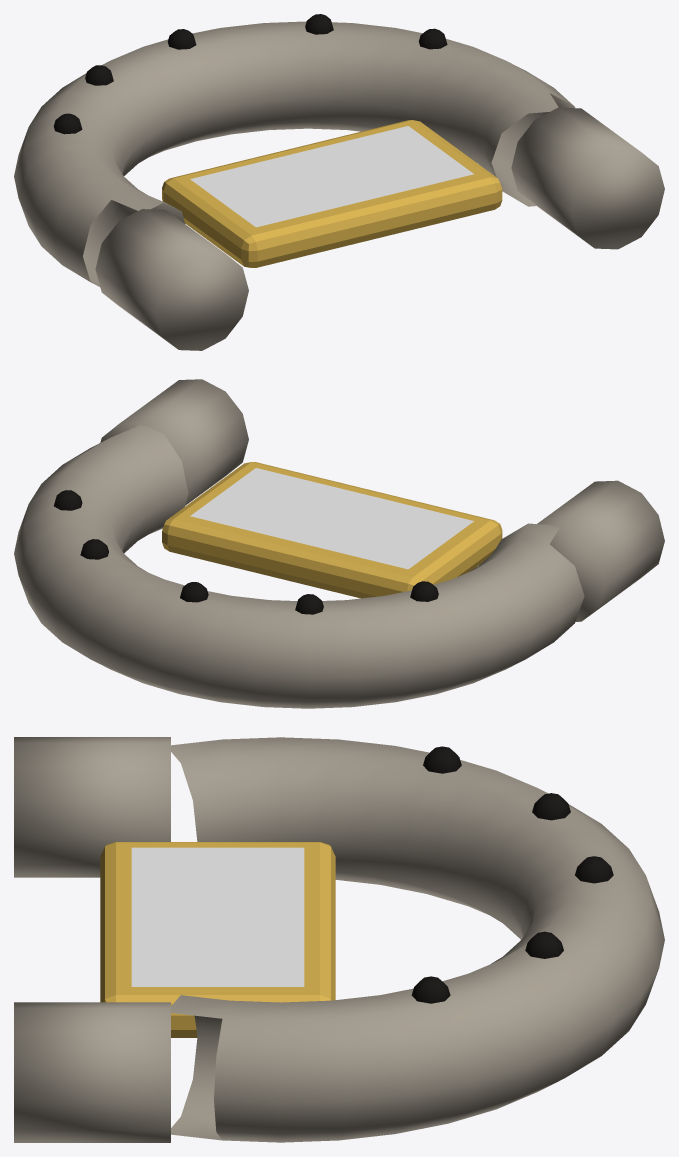
File: kc_ferradura.glb
The picture shows the model from 3 angles, top to bottom: view 1: azimuth 30°, elevation 25°; view 2: azimuth 150°, elevation 25°; view 3: azimuth 270°, elevation 25°; orthographic projection. The views are drawn at different scales.
Visible parts, largest first — view 1: Torus.007, Cube, Cylinder, Cylinder.001, screen; view 2: Torus.007, Cube, screen, Cylinder, Cylinder.001; view 3: Torus.007, screen, Cylinder.001, Cylinder, Cube, Sphere.003, Sphere, Sphere.001, Sphere.002, Sphere.004.
Boxes of the visible parts, left/top/right/bottom form: Torus.007: left=14, top=21, right=575, bottom=286; Cube: left=162, top=120, right=502, bottom=267; Cylinder: left=95, top=209, right=248, bottom=350; Cylinder.001: left=511, top=107, right=664, bottom=249; screen: left=190, top=126, right=473, bottom=227; Torus.007: left=14, top=425, right=584, bottom=708; Cube: left=162, top=462, right=502, bottom=598; screen: left=190, top=468, right=473, bottom=569; Cylinder: left=537, top=480, right=664, bottom=621; Cylinder.001: left=100, top=379, right=248, bottom=505; Torus.007: left=171, top=737, right=664, bottom=1142; screen: left=131, top=847, right=304, bottom=986; Cylinder.001: left=14, top=1002, right=170, bottom=1142; Cylinder: left=14, top=737, right=170, bottom=877; Cube: left=100, top=842, right=335, bottom=1037; Sphere.003: left=532, top=793, right=570, bottom=820; Sphere: left=411, top=976, right=450, bottom=1003; Sphere.001: left=525, top=931, right=563, bottom=958; Sphere.002: left=575, top=856, right=613, bottom=883; Sphere.004: left=423, top=746, right=461, bottom=773.
Size of the model in its own units: 0.98 by 0.2 by 0.83.
